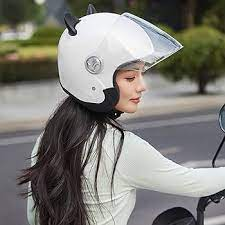helmets: (58, 3, 183, 108)
